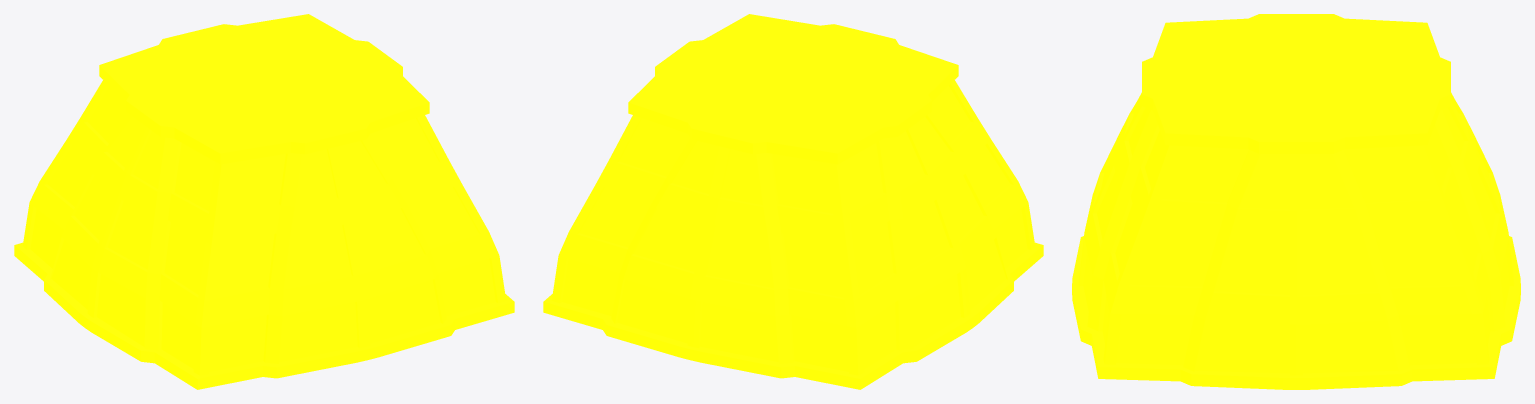
Rendered from skyscraper2-part-shrinkage.glb.
3 renders of one model, left to right at view 1: azimuth 30°, elevation 25°; view 2: azimuth 150°, elevation 25°; view 3: azimuth 270°, elevation 25°, orthographic. The views are drawn at different scales.
Visible parts, largest first — view 1: skyscraper2-part-shrinkage; view 2: skyscraper2-part-shrinkage; view 3: skyscraper2-part-shrinkage.
Boxes of the visible parts, x1=… form: skyscraper2-part-shrinkage: x1=14, y1=14, x2=514, y2=389; skyscraper2-part-shrinkage: x1=543, y1=14, x2=1043, y2=389; skyscraper2-part-shrinkage: x1=1072, y1=14, x2=1520, y2=389.
Bounding box in the file's own units: 20.6 × 11 × 20.6.
Materials: 1 (1 with a texture image).
